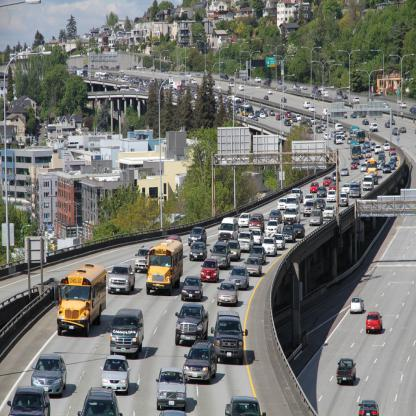Bus: (55, 264, 107, 336), (146, 240, 183, 295), (349, 127, 366, 143), (350, 140, 360, 159), (367, 158, 377, 174), (240, 106, 253, 116), (95, 73, 109, 80), (74, 70, 88, 75)
